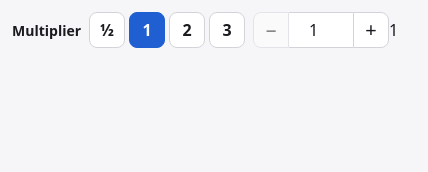
Test case: Stepper › sets the value from a preset and reflects it with aria-pressed
The width and height of the screenshot is (428, 172).
Click the button "½" at (107, 30), box 89,12 -> 125,48
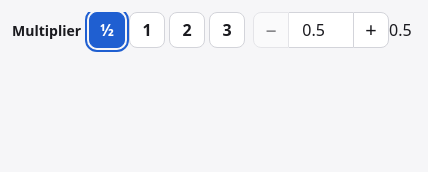
Now the text with test id "value" reads "0.5", box 389,18 -> 412,40
